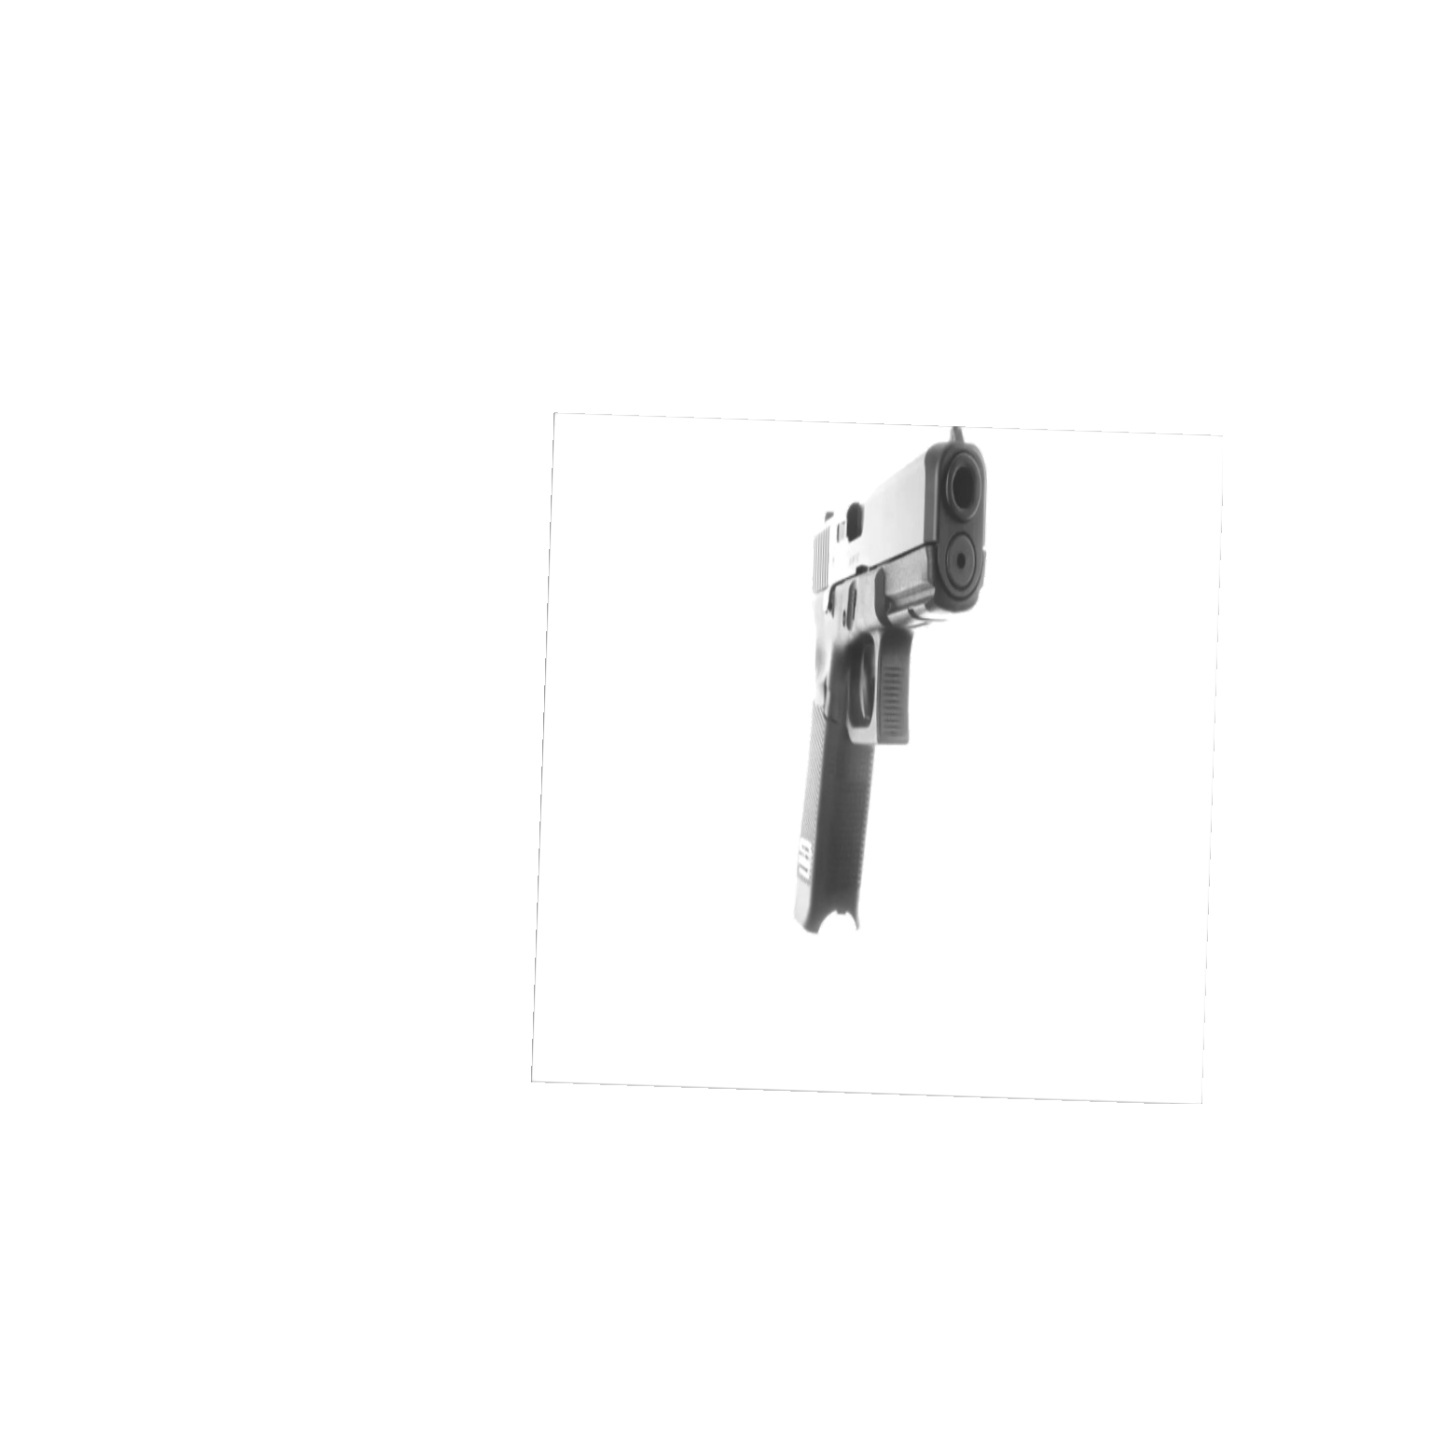gun: (774, 419, 1009, 951)
